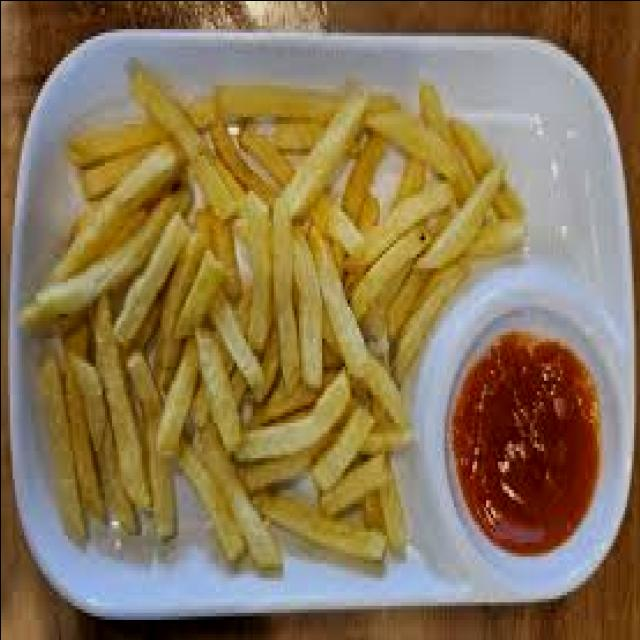kentang goreng: (16, 77, 524, 573)
